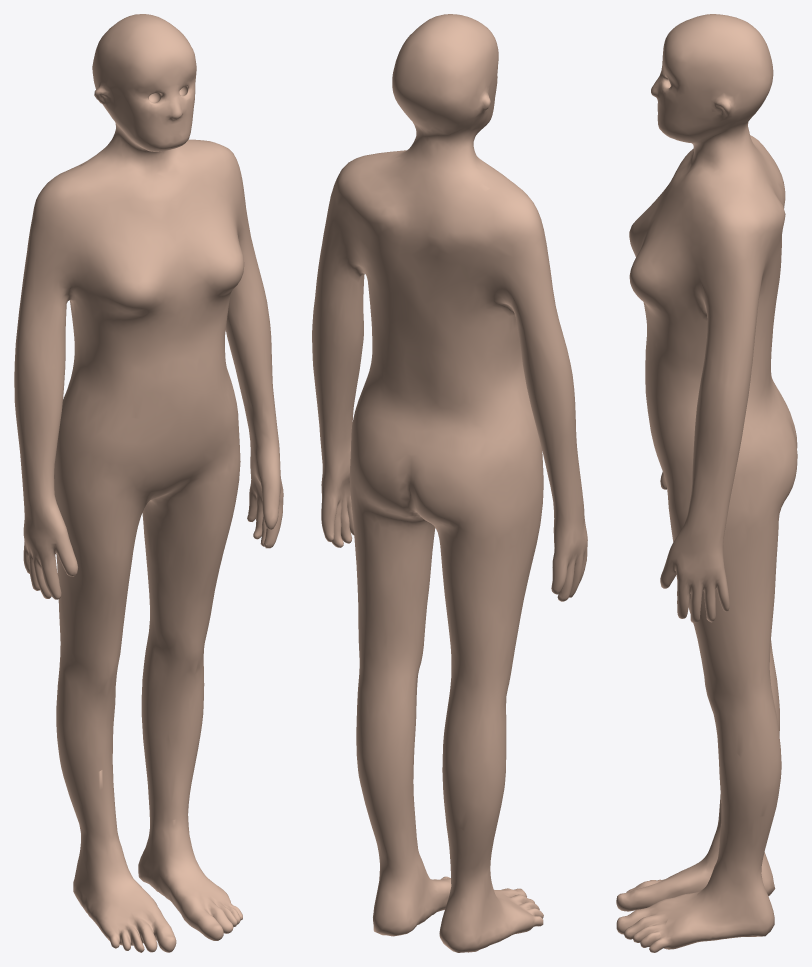
Rendered from pediatric_adolescent_female.surface.LOD0.glb.
The picture shows the model from 3 angles, left to right: view 1: azimuth 30°, elevation 25°; view 2: azimuth 150°, elevation 25°; view 3: azimuth 270°, elevation 25°; orthographic projection. The views are drawn at different scales.
Parts seen in each view (by area): view 1: PEDIATRIC.ADOLESCENT.FEMALE.SURFACE.SKIN; view 2: PEDIATRIC.ADOLESCENT.FEMALE.SURFACE.SKIN; view 3: PEDIATRIC.ADOLESCENT.FEMALE.SURFACE.SKIN.
Boxes of the visible parts, left/top/right/bottom form: PEDIATRIC.ADOLESCENT.FEMALE.SURFACE.SKIN: left=14, top=14, right=283, bottom=952; PEDIATRIC.ADOLESCENT.FEMALE.SURFACE.SKIN: left=312, top=14, right=587, bottom=952; PEDIATRIC.ADOLESCENT.FEMALE.SURFACE.SKIN: left=616, top=14, right=797, bottom=952.
Size of the model in its own units: 0.4729 by 1.61 by 0.2923.
